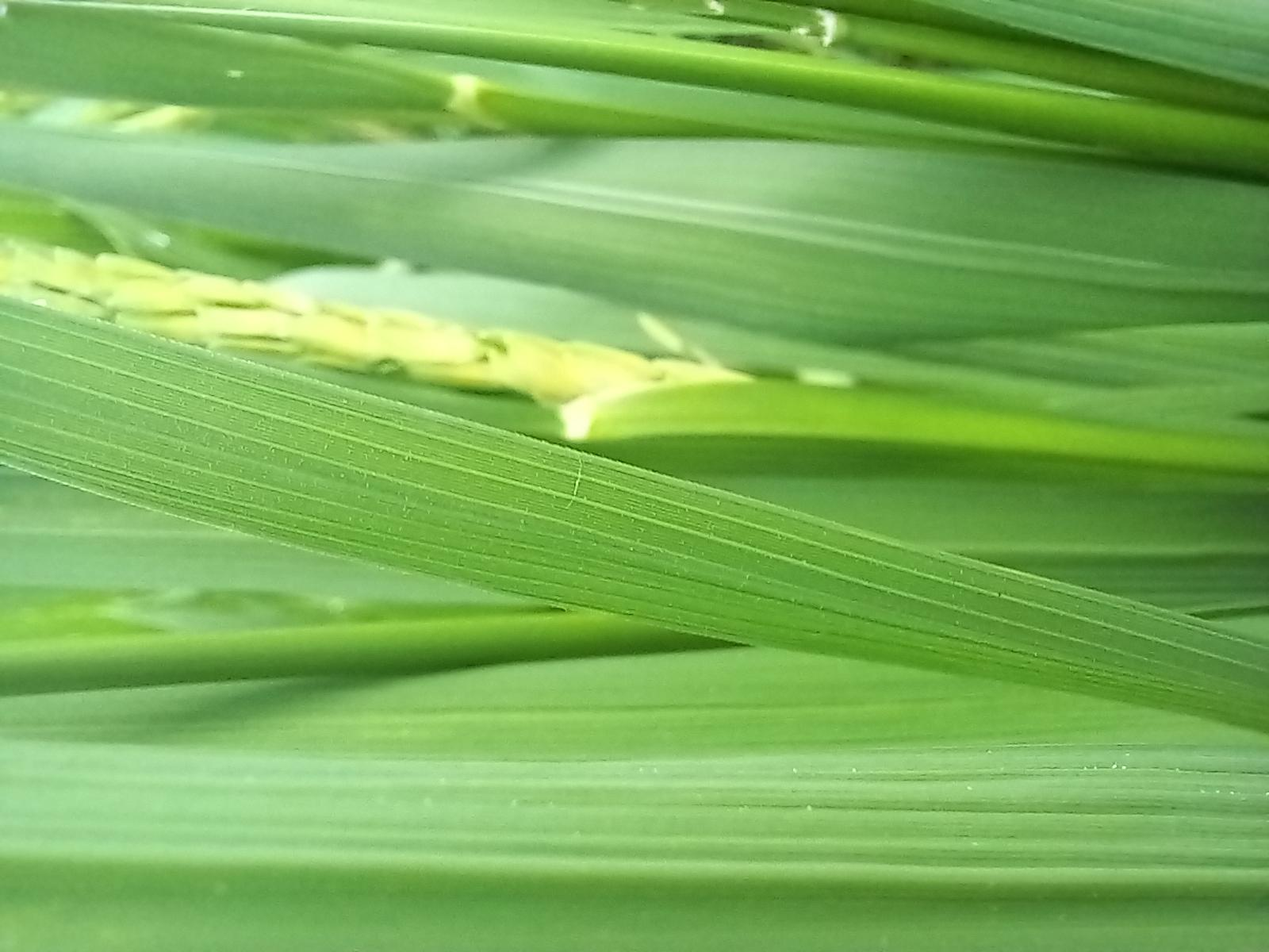Healthy: (295, 0, 863, 951)
